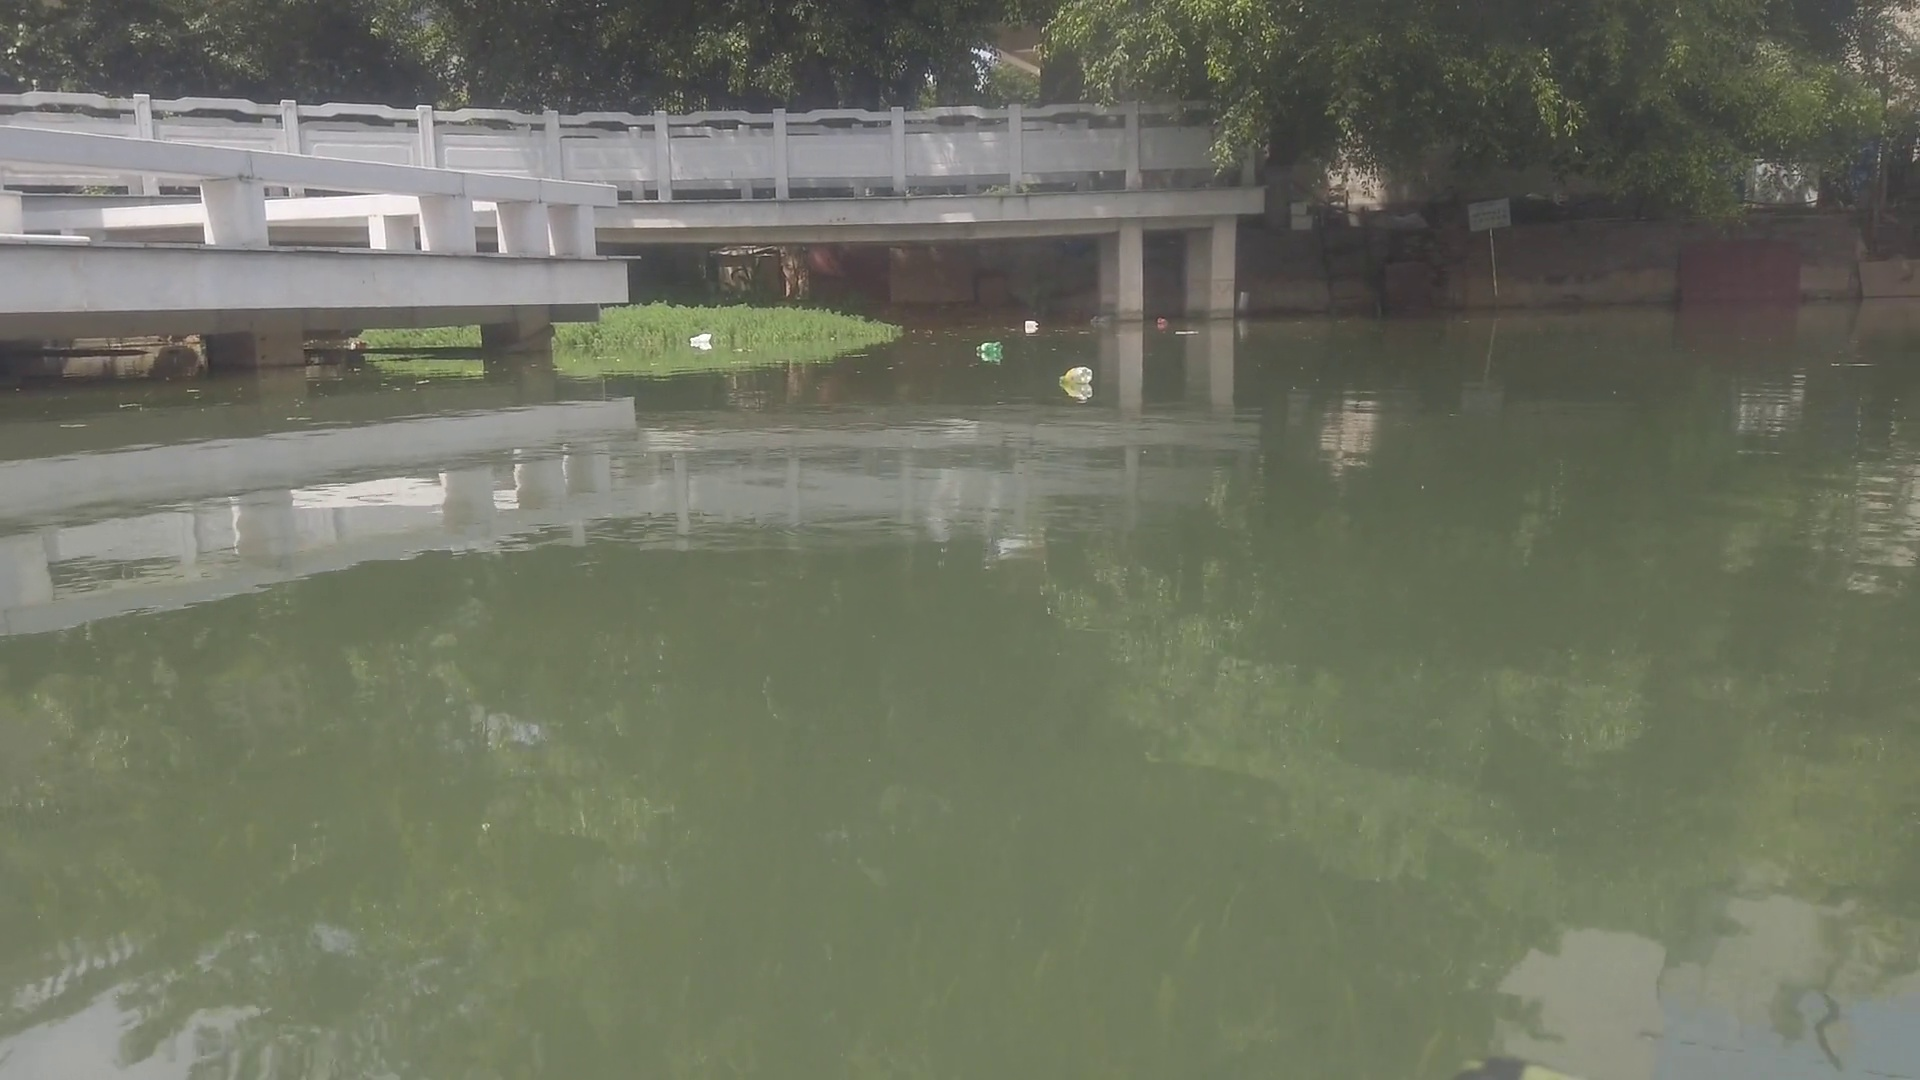bottle: (1058, 364, 1097, 384), (975, 335, 1004, 357), (1153, 316, 1168, 328)
carton: (1022, 319, 1046, 334)
paper: (1172, 324, 1209, 338)
plastic: (690, 328, 712, 344)
